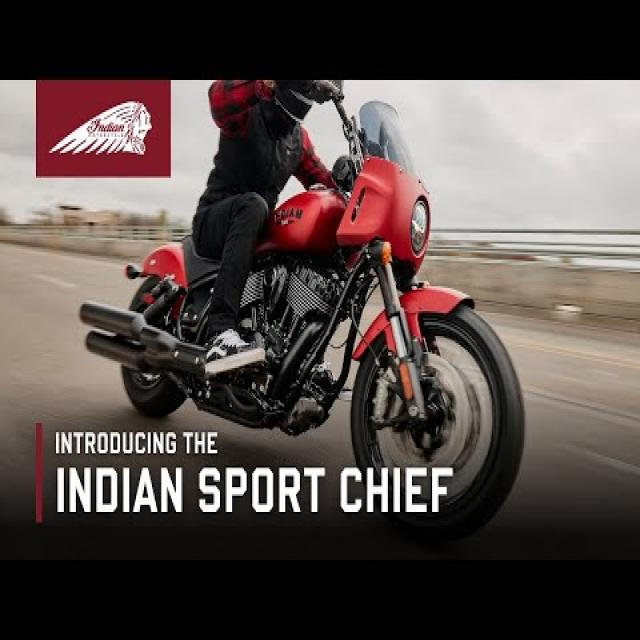motorcycle: (81, 82, 524, 538)
